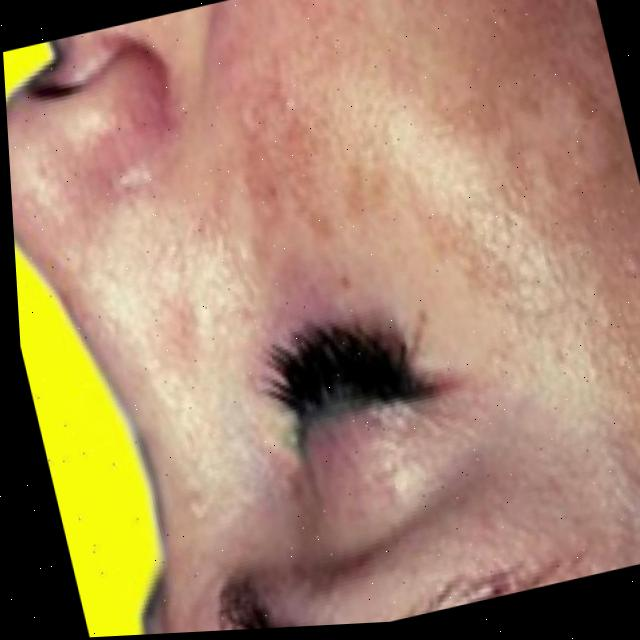Melasma: (151, 0, 640, 366)
